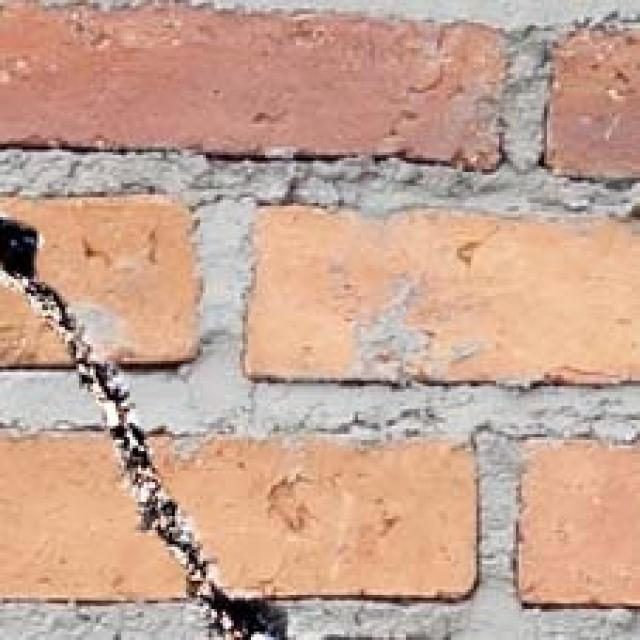Crack: (1, 198, 311, 640)
